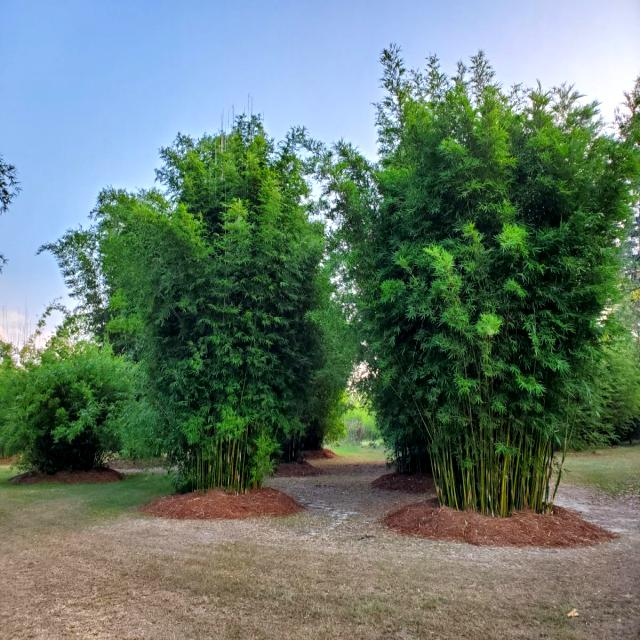Clumping: (358, 90, 620, 551), (94, 118, 323, 528)
